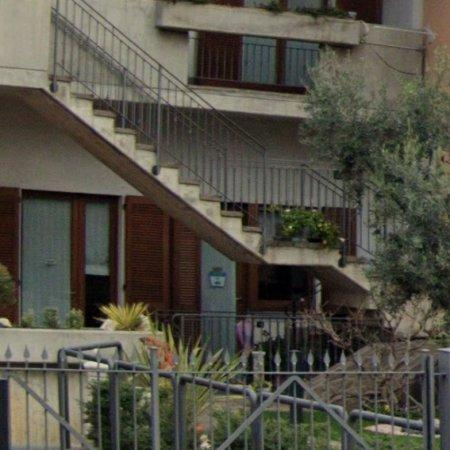stairs: (0, 86, 267, 265)
